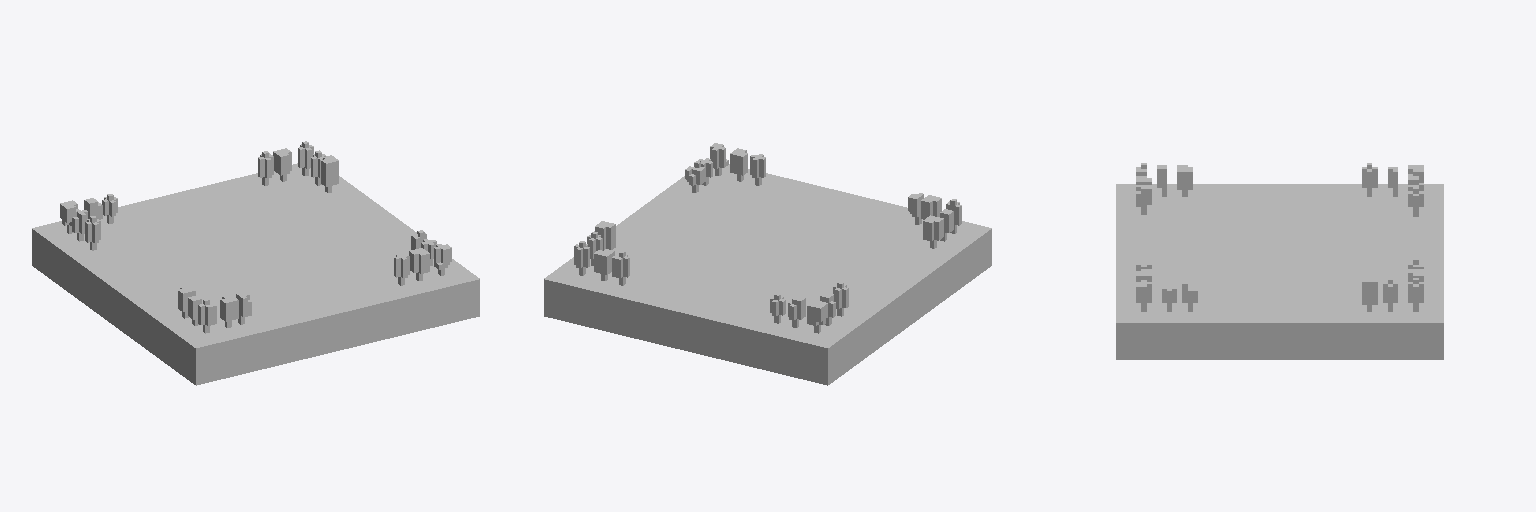
Rendered from terrain.obj.
The picture shows the model from 3 angles: view 1: azimuth 30°, elevation 25°; view 2: azimuth 150°, elevation 25°; view 3: azimuth 270°, elevation 25°; orthographic projection.
Bounding box in the file's own units: 64 × 15 × 64.